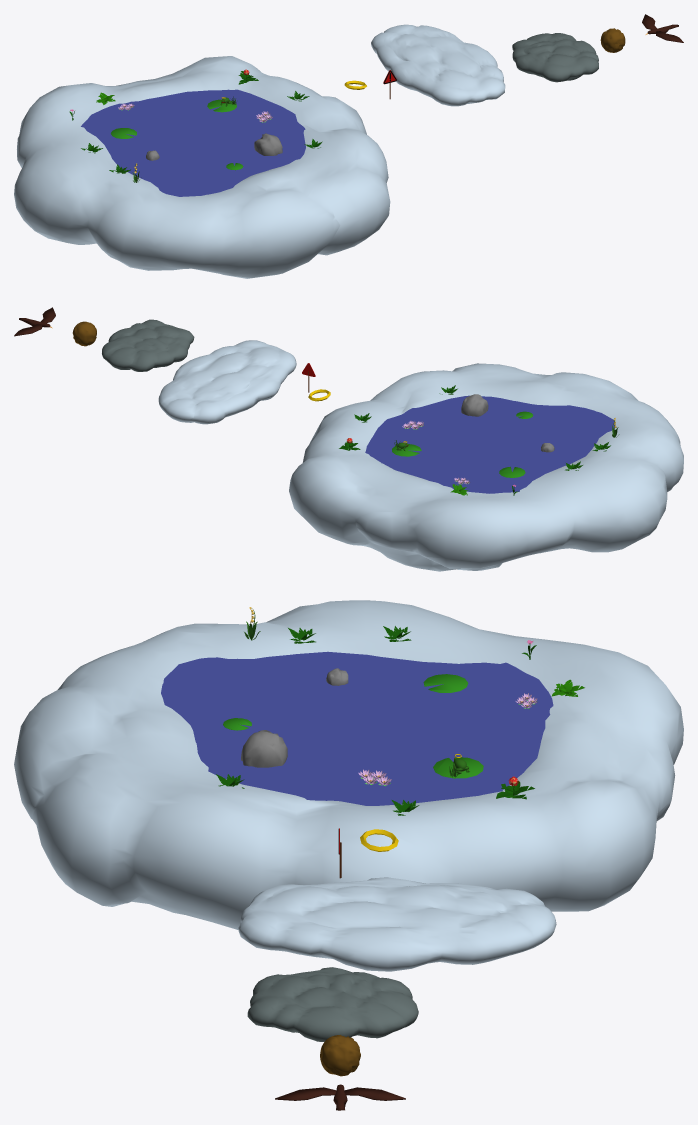
File: Props Montaña.fbx
3 renders of one model, top to bottom at view 1: azimuth 30°, elevation 25°; view 2: azimuth 150°, elevation 25°; view 3: azimuth 270°, elevation 25°, orthographic. The views are drawn at different scales.
Parts seen in each view (by area): view 1: Estanque Cielo, CLoud.001, Cloud que rebota, Roca, Paharo; view 2: Estanque Cielo, CLoud.001, Cloud que rebota, Roca, Paharo; view 3: Estanque Cielo, CLoud.001, Cloud que rebota, Roca, Paharo.
Boxes of the visible parts, box(x1,y1,x2,y2) form: Estanque Cielo: box(14, 56, 390, 278); CLoud.001: box(371, 24, 505, 106); Cloud que rebota: box(512, 33, 598, 82); Roca: box(600, 28, 625, 52); Paharo: box(642, 14, 683, 42); Estanque Cielo: box(289, 363, 683, 571); CLoud.001: box(158, 340, 296, 424); Cloud que rebota: box(102, 319, 194, 371); Roca: box(72, 321, 96, 346); Paharo: box(14, 307, 55, 336); Estanque Cielo: box(14, 600, 683, 929); CLoud.001: box(238, 877, 556, 971); Cloud que rebota: box(247, 967, 418, 1041); Roca: box(320, 1035, 360, 1076); Paharo: box(275, 1084, 405, 1110).
Bounding box in the file's own units: 50.81 × 9.56 × 26.95.
